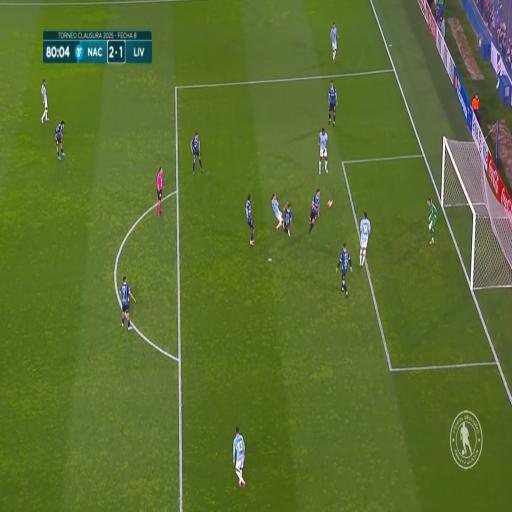Ball: (328, 198, 332, 206)
Goalkeeper: (427, 196, 437, 244)
Player: (337, 244, 352, 298), (120, 276, 133, 334), (233, 428, 246, 483), (245, 193, 257, 251), (359, 211, 370, 271), (308, 188, 320, 233), (192, 131, 202, 173), (328, 78, 336, 125), (54, 122, 65, 156), (283, 203, 294, 237), (270, 192, 280, 227), (320, 125, 327, 175), (41, 77, 48, 124), (330, 22, 337, 61)
Referee: (156, 165, 165, 213)
